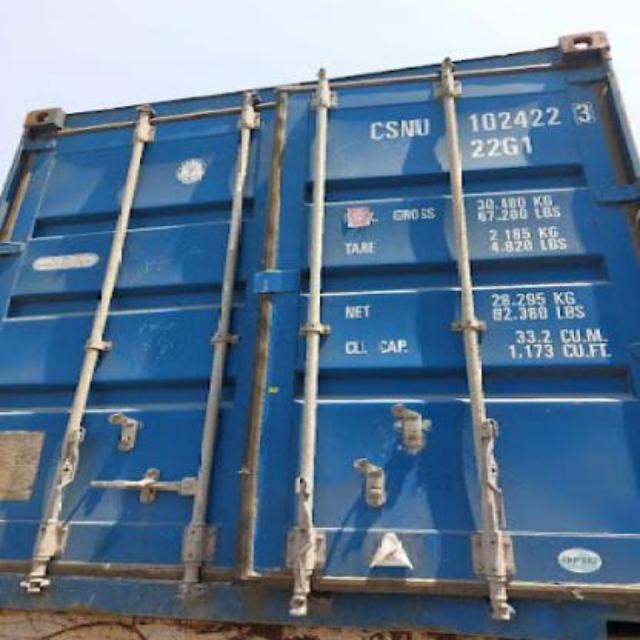0: (482, 111, 498, 132)
1: (466, 110, 480, 134)
2: (497, 110, 513, 132), (529, 106, 545, 128), (546, 105, 560, 128)
3: (570, 102, 594, 126)
4: (512, 108, 528, 130)
C: (371, 120, 383, 142)
N: (399, 118, 416, 138)
S: (384, 118, 400, 140)
U: (415, 116, 431, 138)
